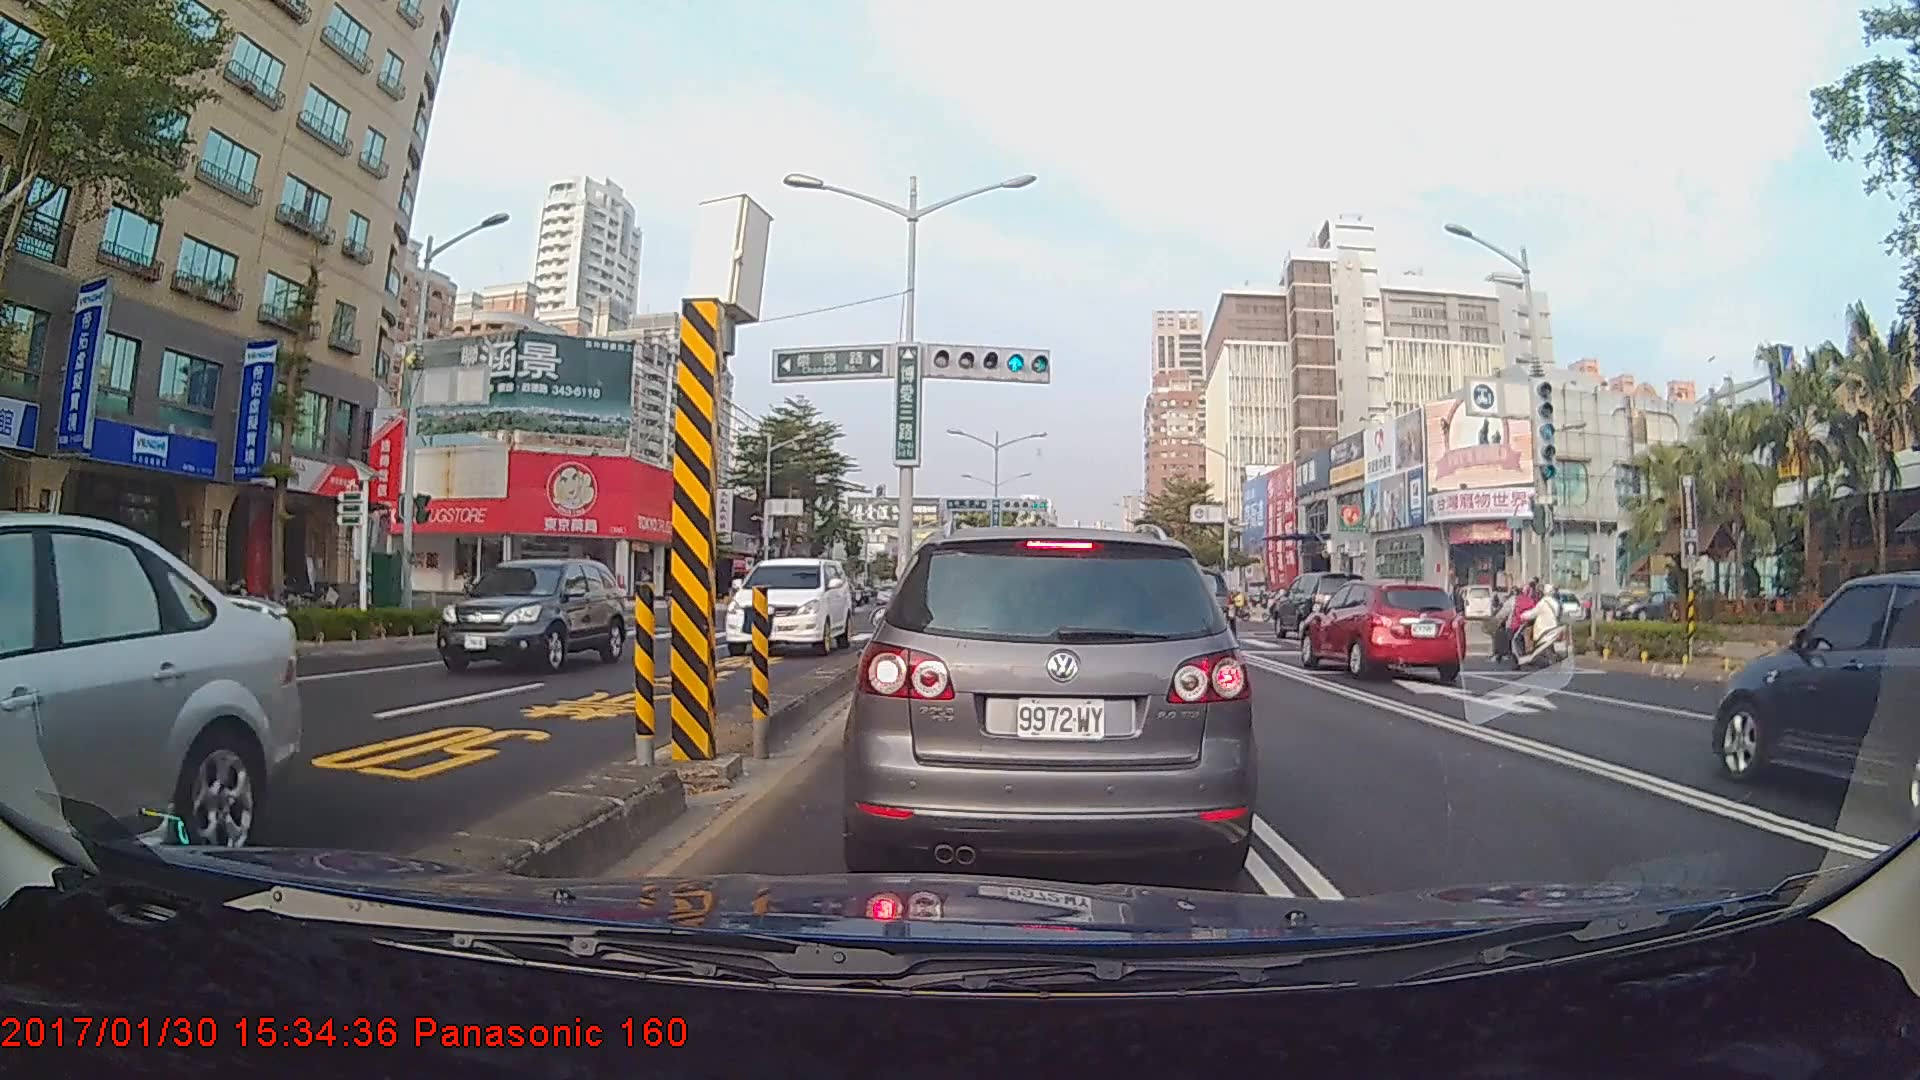rider: (1503, 586, 1573, 682), (1485, 582, 1548, 668)
vehicle: (855, 522, 1251, 873), (0, 510, 301, 945), (1714, 568, 1919, 824), (433, 555, 627, 674), (1297, 577, 1466, 684), (722, 557, 852, 656), (1271, 569, 1366, 638)
